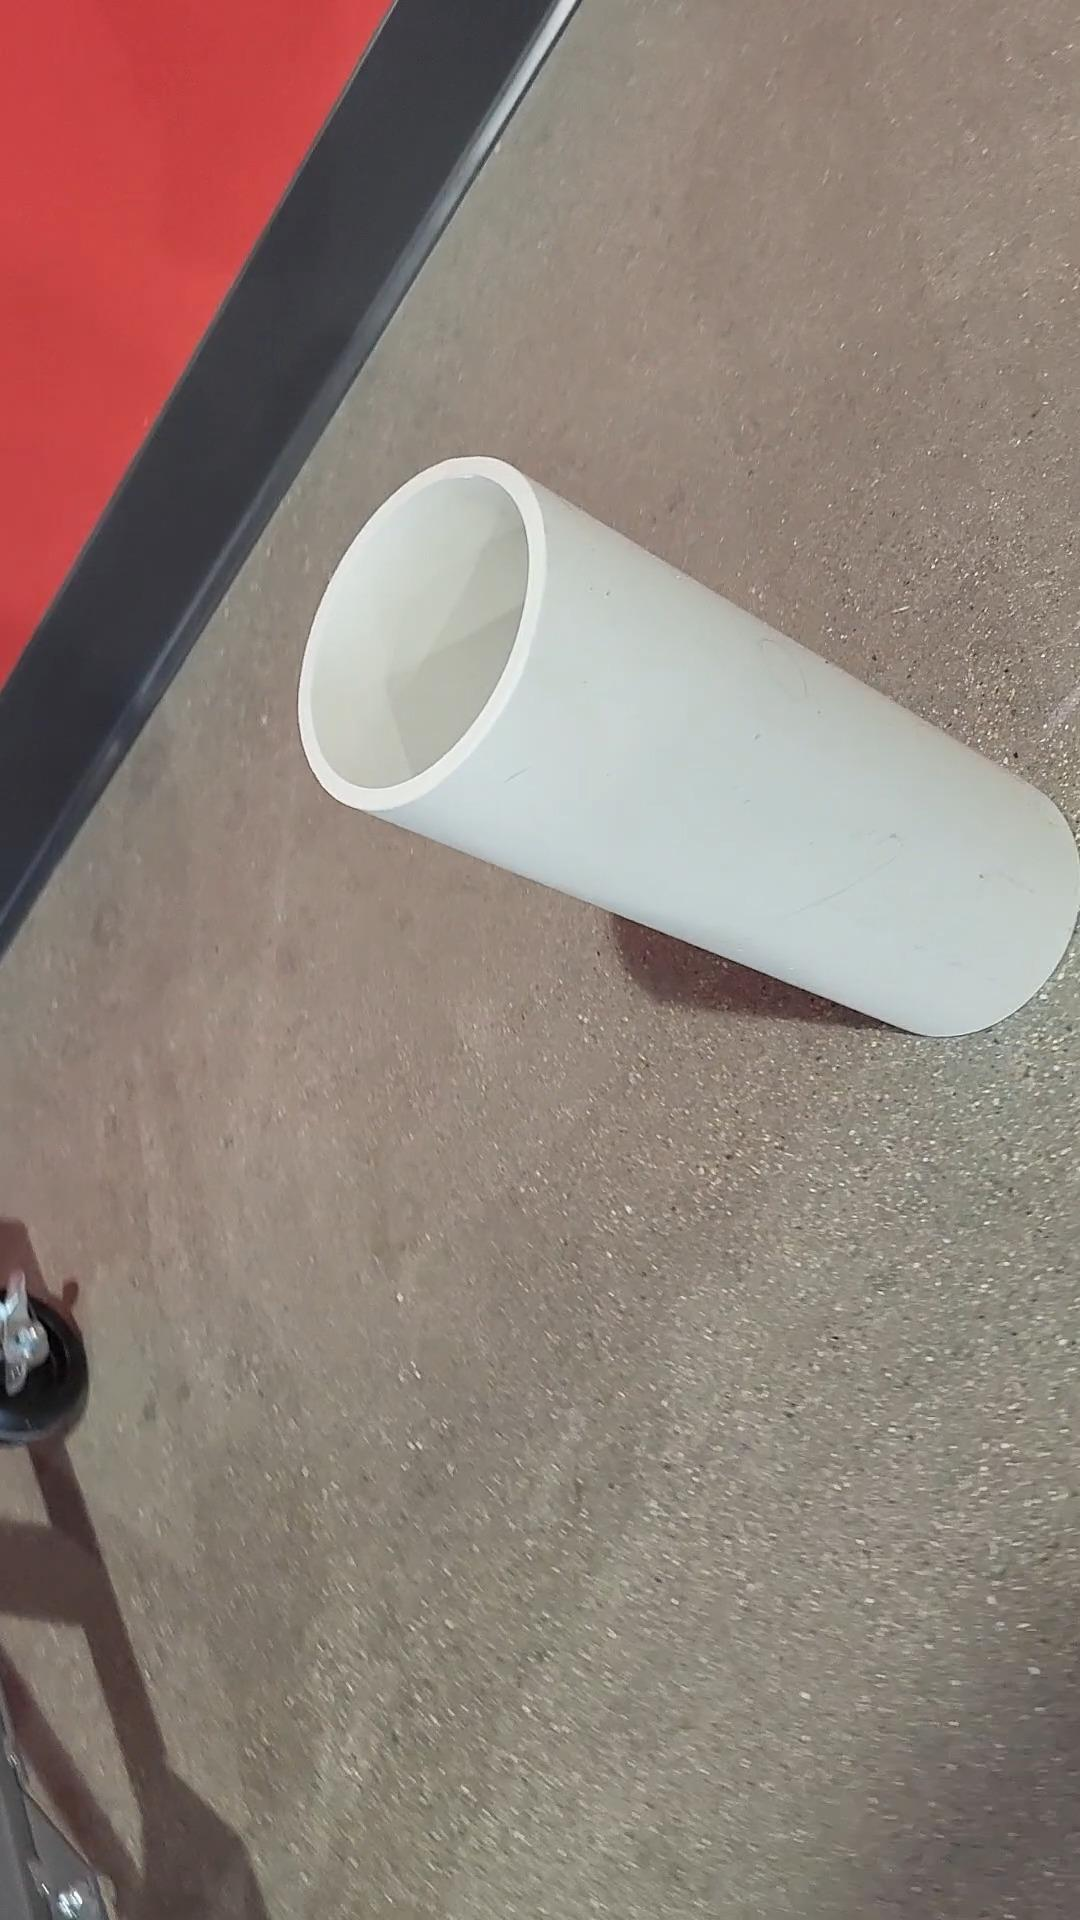coral: (286, 443, 1080, 1051)
